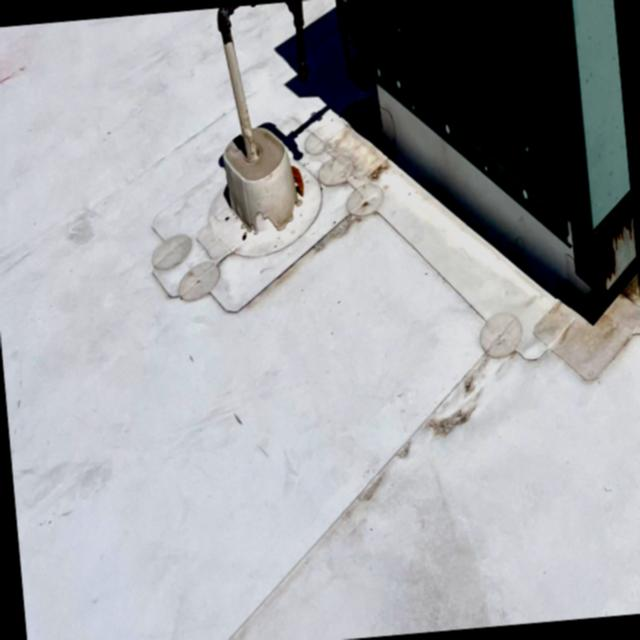RTU: (308, 0, 639, 325)
